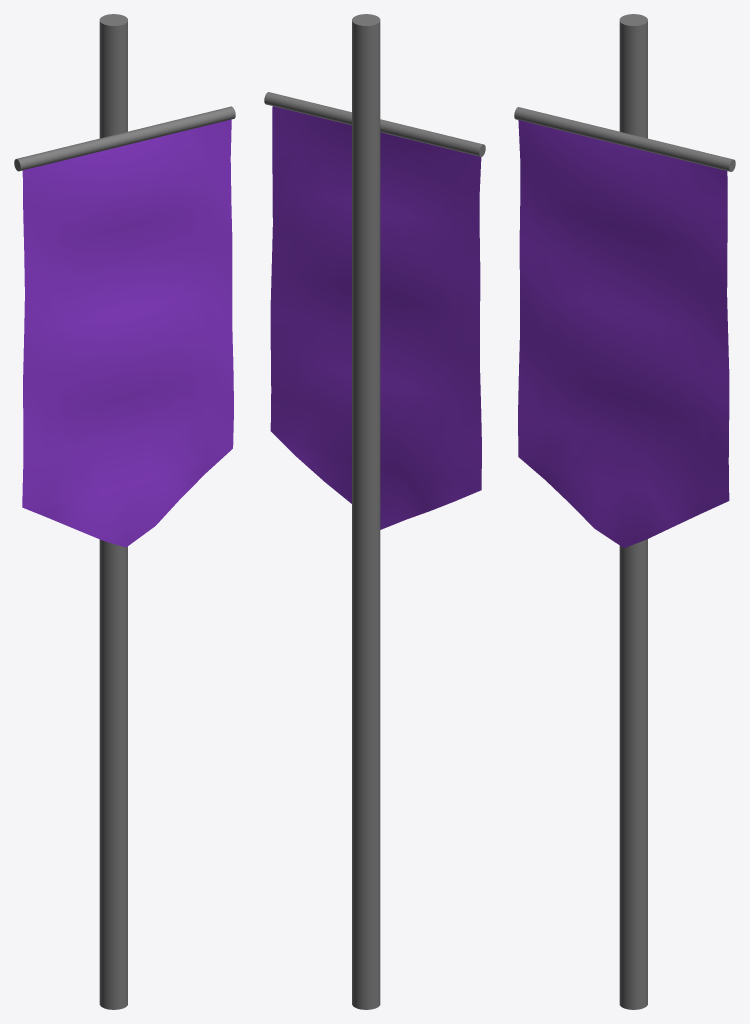
File: Pole_Banner.fbx
3 views of the same model, side by side, from view 1: azimuth 30°, elevation 25°; view 2: azimuth 150°, elevation 25°; view 3: azimuth 330°, elevation 25° (orthographic).
Visible parts, largest first — view 1: Banner_Pole; view 2: Banner_Pole; view 3: Banner_Pole.
Boxes of the visible parts, x1,y1,x2,y2 form: Banner_Pole: [14, 14, 235, 1009]; Banner_Pole: [264, 14, 485, 1009]; Banner_Pole: [514, 14, 735, 1009].
Size of the model in its own units: 65.45 by 286 by 11.4.
